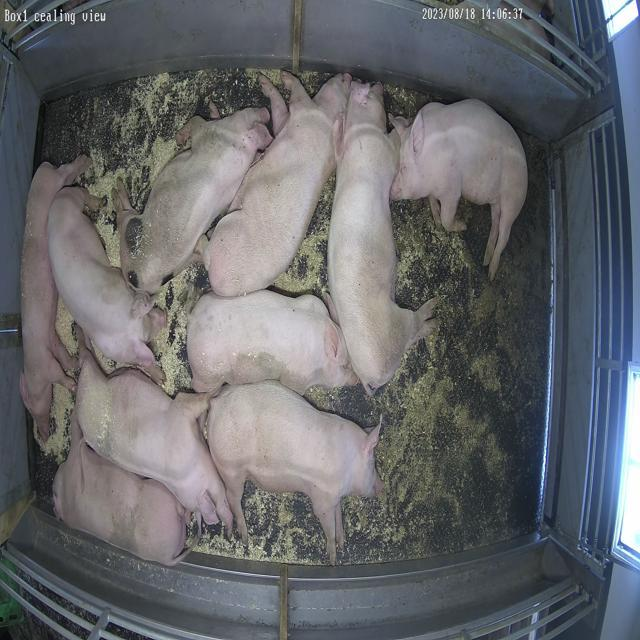Dirt: (353, 154, 551, 564)
Pig: (328, 81, 437, 394), (204, 72, 352, 297), (207, 382, 384, 566), (75, 351, 233, 530), (121, 108, 273, 294), (392, 99, 529, 280), (53, 415, 190, 566), (20, 155, 89, 442), (47, 187, 154, 366), (187, 290, 359, 394)
